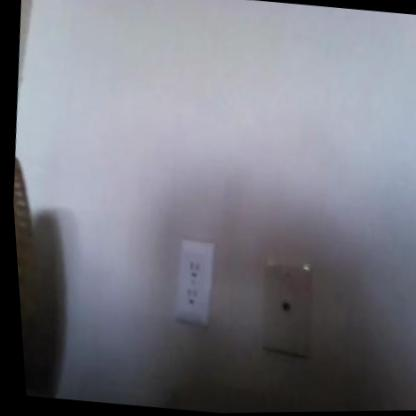OUTLET: (169, 239, 220, 326)
